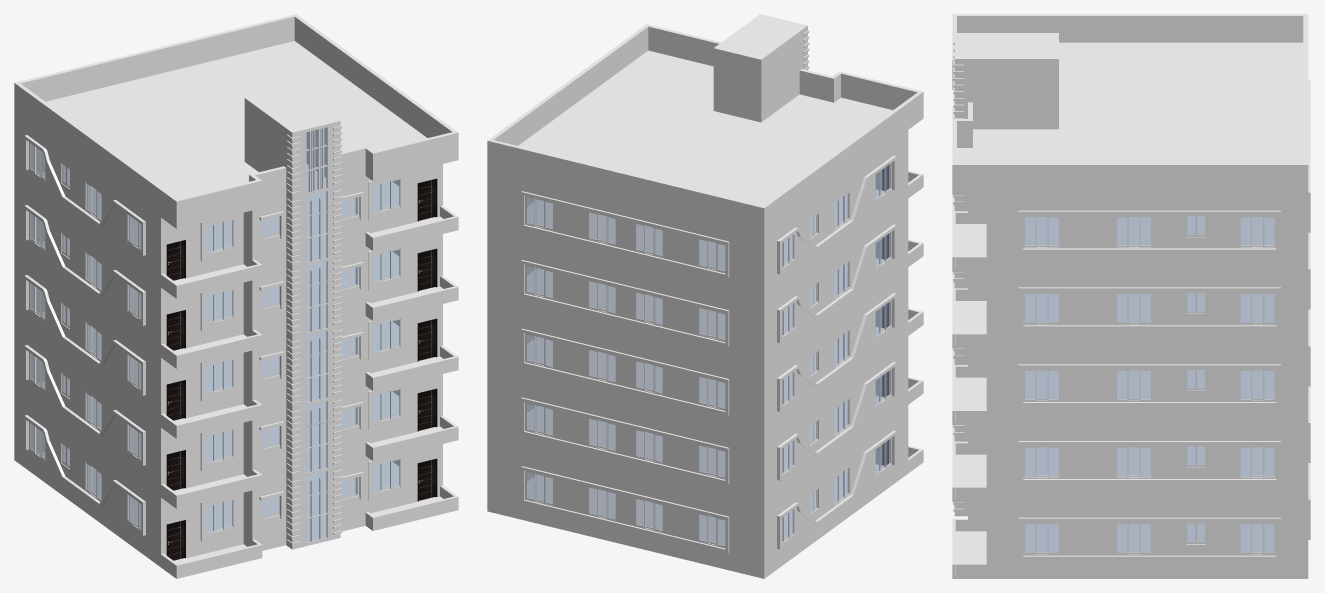
3 renders of one model, left to right at view 1: azimuth 30°, elevation 25°; view 2: azimuth 150°, elevation 25°; view 3: azimuth 270°, elevation 25°, orthographic. The views are drawn at different scales.
Parts seen in each view (by area): view 1: Component#1 (×5), 154979, 154902 (×4), หน้าต่าง3บาน (×10), glass (×6), PINTU+6+YA (×10), Component#8 (×5), 152814, 152834; view 2: Component#1 (×5), 154979, 154902 (×4), หน้าต่าง3บาน (×20), Component#7 (×5), Component#8 (×5), 152814, 152834; view 3: Component#1 (×5), 154979, 154902 (×4), หน้าต่าง3บาน (×15), Component#3 (×5), 152814, 152834, Component#7.
Part boxes in pixels (x1,y1,x2,y2): Component#1 (×5): (14, 110, 458, 575); 154979: (14, 14, 458, 228); 154902 (×4): (14, 236, 458, 578); หน้าต่าง3บาน (×10): (205, 178, 401, 534); glass (×6): (306, 127, 327, 542); PINTU+6+YA (×10): (166, 178, 437, 560); Component#8 (×5): (24, 135, 145, 535); 152814: (14, 166, 458, 298); 152834: (244, 86, 340, 135); Component#1 (×5): (487, 130, 923, 575); 154979: (487, 24, 923, 234); 154902 (×4): (487, 251, 923, 578); หน้าต่าง3บาน (×20): (525, 196, 725, 548); Component#7 (×5): (521, 191, 729, 552); Component#8 (×5): (777, 155, 896, 549); 152814: (487, 184, 923, 303); 152834: (713, 14, 807, 62); Component#1 (×5): (952, 106, 1308, 575); 154979: (952, 14, 1308, 194); 154902 (×4): (952, 282, 1308, 578); หน้าต่าง3บาน (×15): (1023, 216, 1276, 555); Component#3 (×5): (1018, 210, 1280, 560); 152814: (952, 206, 1308, 271); 152834: (954, 33, 1058, 62); Component#7: (1308, 80, 1310, 232).
Size of the model in its own units: 14.8 by 20.55 by 14.6.
867 materials, 244 textured.
